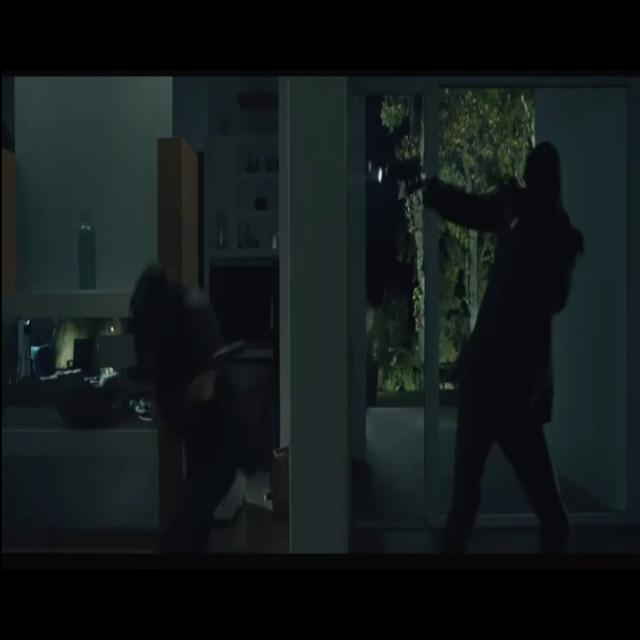weapons: (376, 132, 436, 207)
